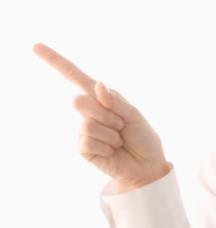up: (31, 41, 168, 186)
